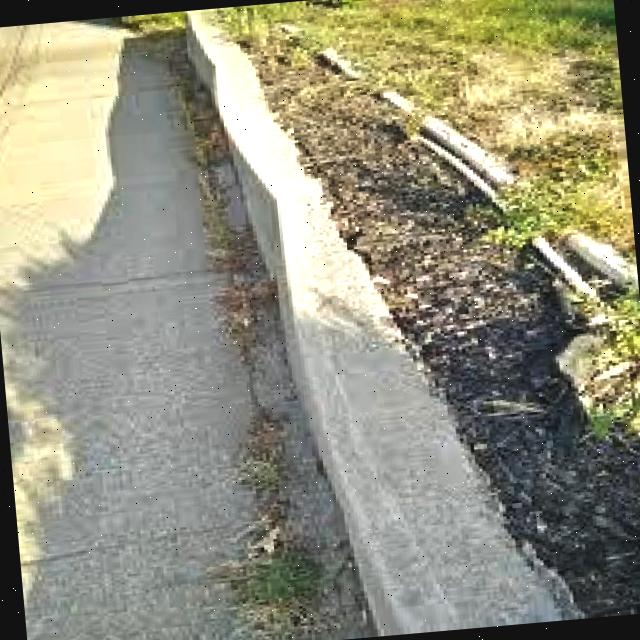curb: (225, 194, 429, 464), (321, 422, 539, 640), (163, 13, 289, 191)
